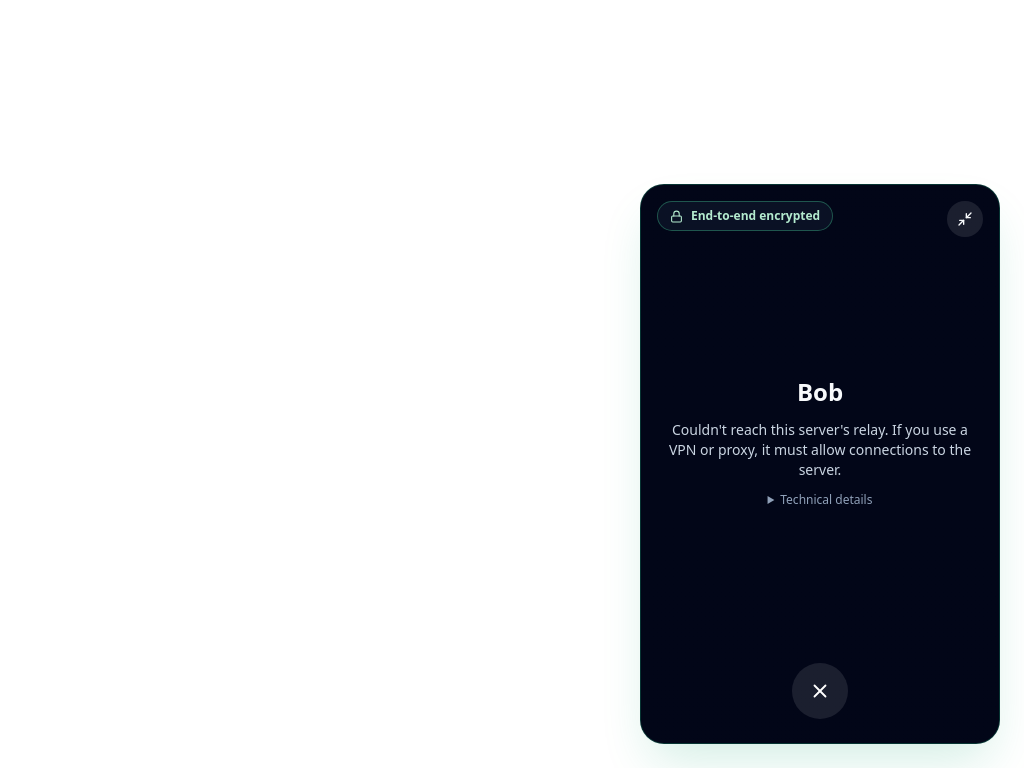
Test case: CallOverlay › the technical details can be copied as one report
Click the heading "Technical details".
click(820, 500)  # box [768, 492, 872, 508]
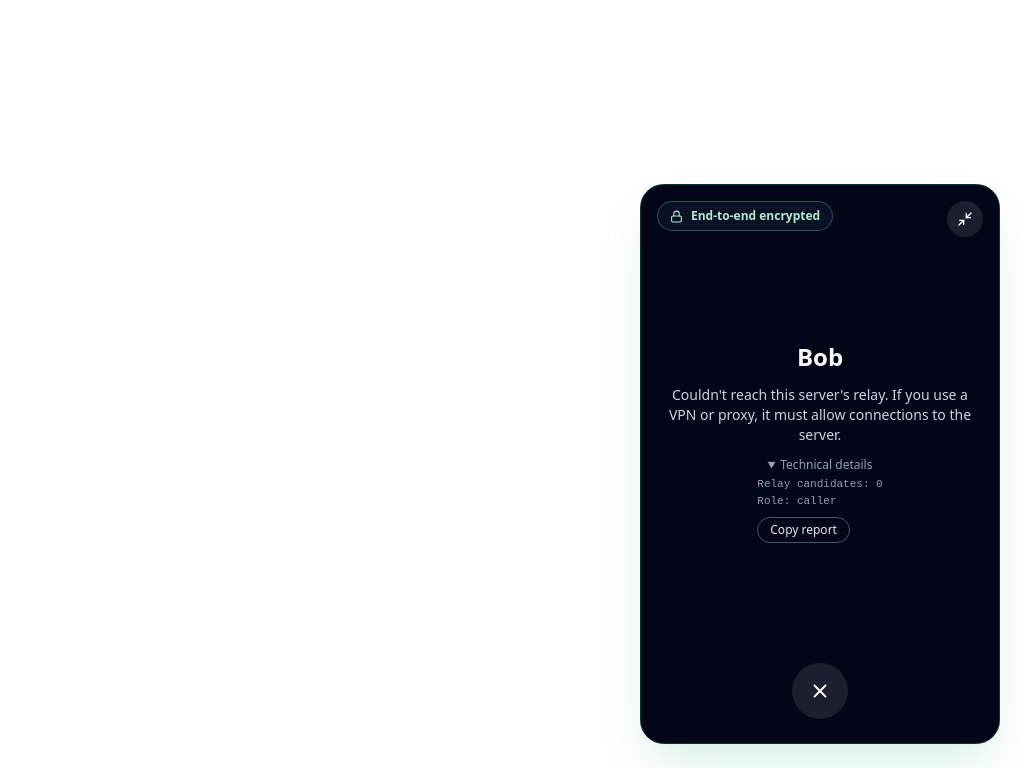
Click the button "Copy report".
click(804, 530)  # box [757, 517, 850, 543]
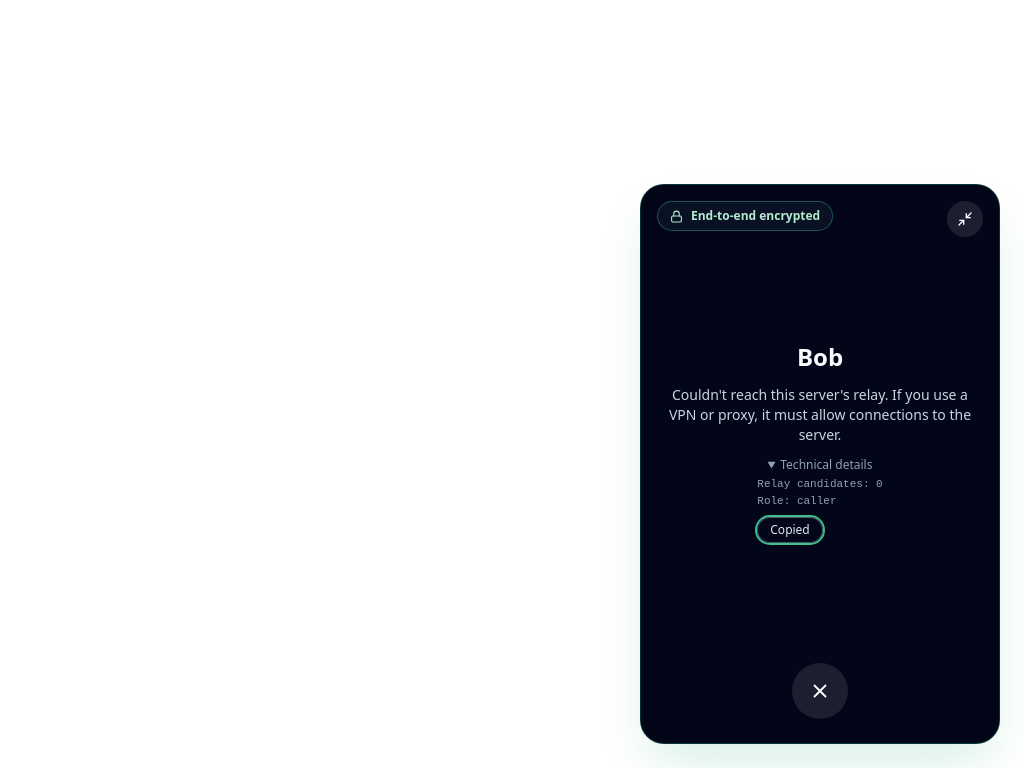
Expected: the button "Copied" is shown, [757, 517, 823, 543]
